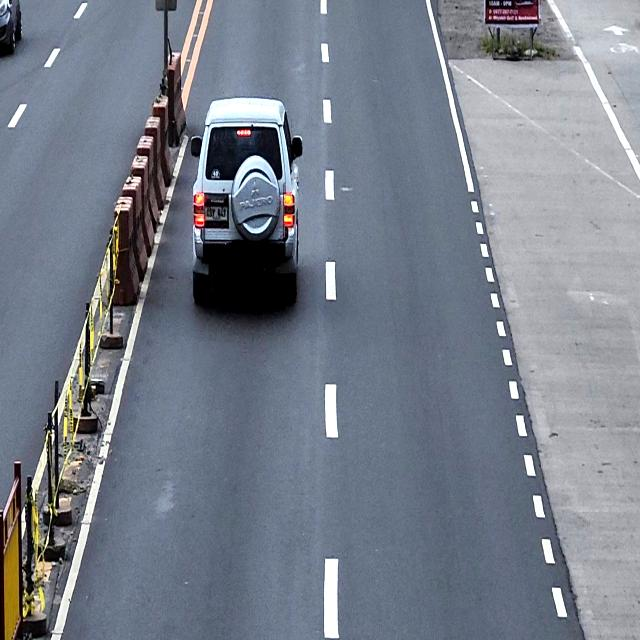Car: (190, 96, 303, 303)
License-Plate: (204, 203, 228, 223)
